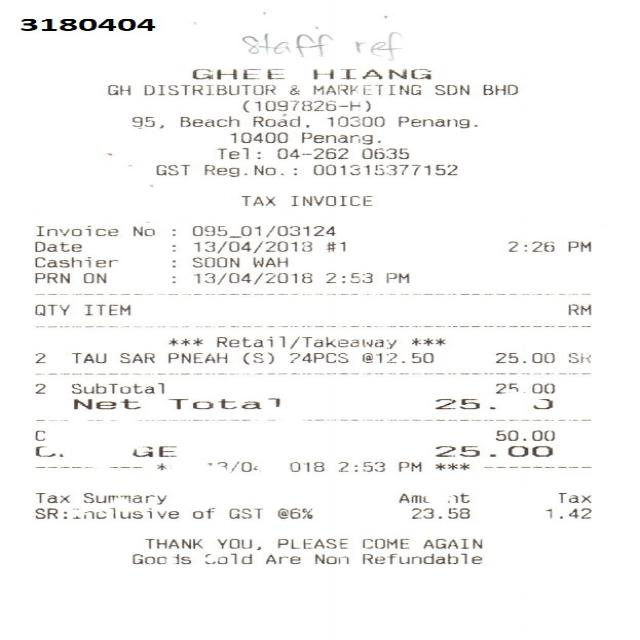text: (216, 335, 394, 348), (190, 224, 334, 237), (20, 17, 153, 30), (311, 163, 455, 175), (241, 99, 369, 112), (34, 507, 177, 518), (433, 445, 560, 457), (193, 240, 310, 253), (192, 271, 308, 284), (142, 84, 273, 95), (362, 552, 479, 564), (170, 397, 280, 409), (312, 68, 429, 79), (311, 84, 419, 95), (396, 114, 476, 128), (300, 130, 379, 144), (70, 382, 162, 394), (190, 68, 283, 79), (33, 255, 116, 267), (82, 492, 164, 504), (35, 224, 116, 236), (291, 194, 370, 206), (202, 164, 278, 176), (72, 397, 141, 409), (251, 113, 307, 127), (286, 352, 356, 363), (492, 382, 554, 394), (227, 130, 286, 142), (166, 351, 225, 363), (130, 552, 189, 564), (276, 148, 346, 158), (276, 538, 346, 548), (495, 351, 553, 363), (178, 115, 237, 126), (325, 115, 383, 126), (495, 429, 553, 440), (409, 507, 467, 518), (433, 398, 494, 408), (420, 538, 480, 548), (142, 538, 201, 548), (83, 303, 132, 315), (204, 461, 256, 472), (203, 552, 250, 564), (216, 537, 259, 550), (33, 240, 80, 251), (190, 256, 237, 267), (336, 461, 383, 472), (216, 146, 259, 158), (544, 507, 590, 518), (34, 301, 65, 317), (507, 240, 552, 251), (360, 352, 402, 363), (361, 148, 406, 158), (361, 538, 406, 548), (130, 446, 174, 456), (153, 163, 188, 175), (70, 351, 105, 363), (33, 491, 68, 503), (264, 552, 299, 564), (130, 115, 162, 128), (119, 351, 153, 363), (314, 552, 348, 564), (432, 84, 468, 95), (240, 352, 272, 364), (482, 83, 516, 94), (240, 194, 274, 205), (288, 461, 322, 472), (276, 507, 310, 518), (228, 507, 261, 518), (250, 256, 286, 266), (32, 272, 68, 282), (556, 491, 588, 502), (397, 492, 428, 502), (566, 351, 589, 363), (566, 240, 589, 251), (396, 461, 419, 472), (190, 507, 213, 518), (106, 84, 128, 95), (409, 352, 431, 363), (348, 272, 371, 282), (384, 272, 407, 282), (82, 272, 105, 282), (567, 304, 590, 314), (324, 240, 343, 252), (131, 226, 152, 236), (530, 398, 551, 408), (33, 446, 53, 456), (447, 492, 467, 502), (33, 379, 44, 394), (322, 271, 335, 282), (289, 84, 298, 95), (34, 352, 43, 362), (34, 430, 43, 440)
